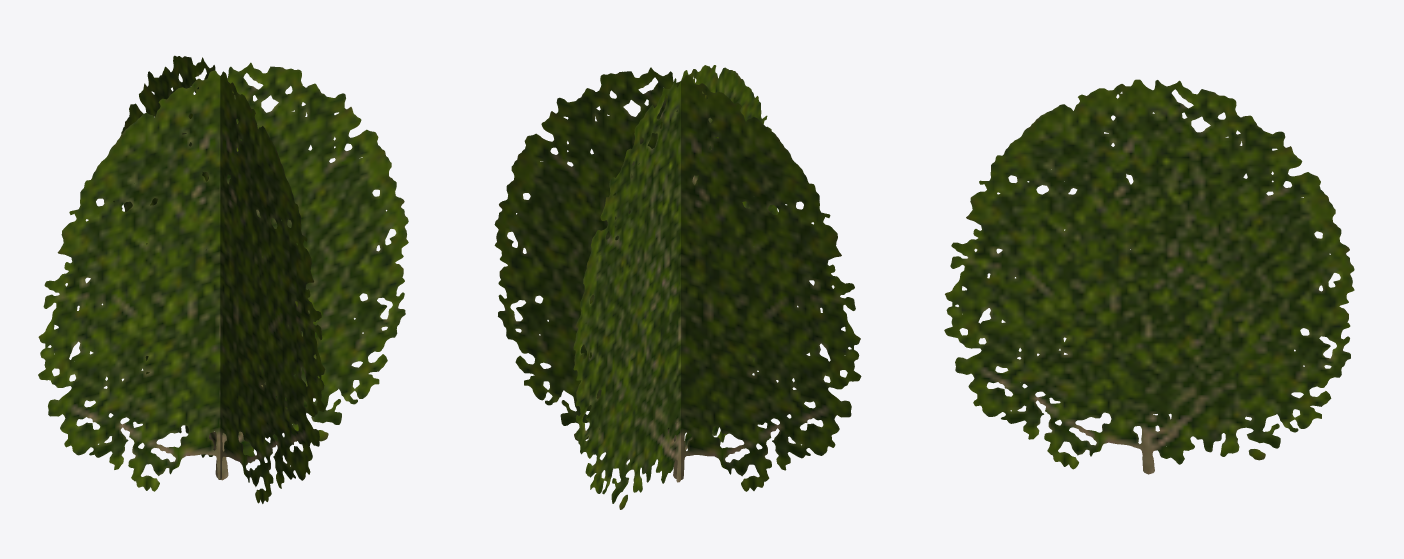
The model's file is W_shrub_A_L2.fbx.
3 renders of one model, left to right at view 1: azimuth 30°, elevation 25°; view 2: azimuth 150°, elevation 25°; view 3: azimuth 270°, elevation 25°, orthographic. The views are drawn at different scales.
Visible parts, largest first — view 1: W_shrub_A_L2; view 2: W_shrub_A_L2; view 3: W_shrub_A_L2.
Part boxes in pixels (bbox=[...]): W_shrub_A_L2: bbox=[38, 55, 408, 503]; W_shrub_A_L2: bbox=[494, 65, 861, 509]; W_shrub_A_L2: bbox=[944, 79, 1354, 474].
Bounding box in the file's own units: 1.1 × 1.04 × 1.11.
